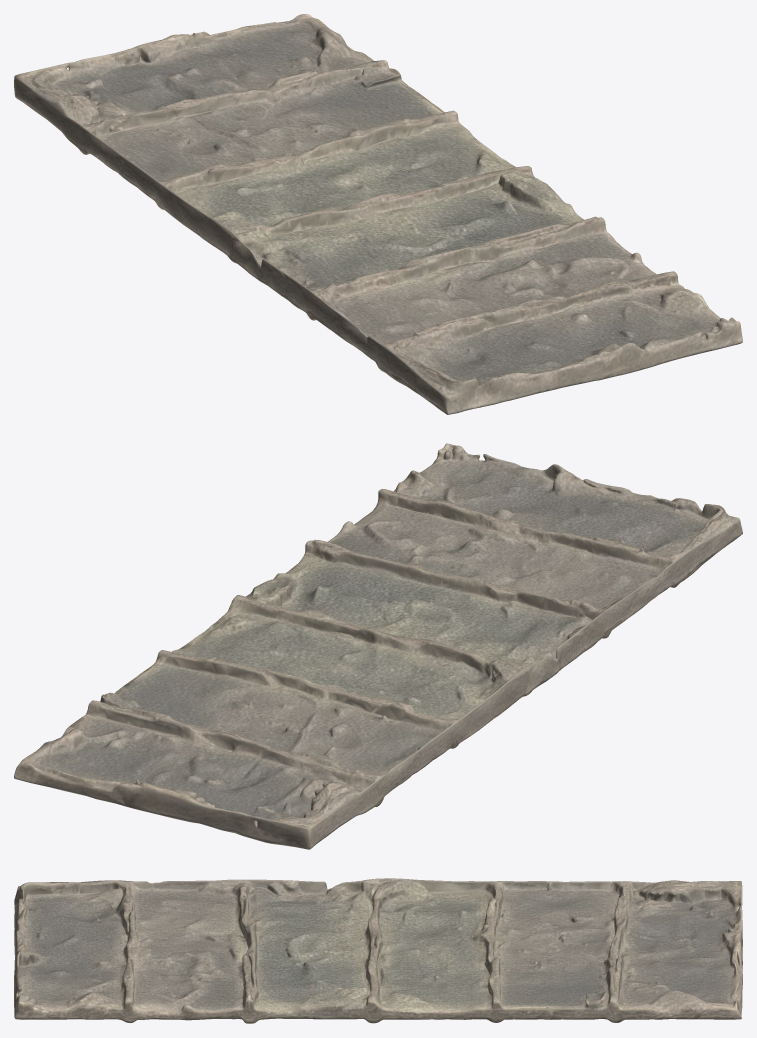
File: cobble.glb
3 renders of one model, top to bottom at view 1: azimuth 30°, elevation 25°; view 2: azimuth 150°, elevation 25°; view 3: azimuth 270°, elevation 25°, orthographic. The views are drawn at different scales.
Visible parts, largest first — view 1: tripo_node_1a96e64e-5b5e-49eb-942a-4aeb8464757c; view 2: tripo_node_1a96e64e-5b5e-49eb-942a-4aeb8464757c; view 3: tripo_node_1a96e64e-5b5e-49eb-942a-4aeb8464757c.
Boxes of the visible parts, x1=… form: tripo_node_1a96e64e-5b5e-49eb-942a-4aeb8464757c: x1=14, y1=14, x2=742, y2=414; tripo_node_1a96e64e-5b5e-49eb-942a-4aeb8464757c: x1=14, y1=443, x2=742, y2=849; tripo_node_1a96e64e-5b5e-49eb-942a-4aeb8464757c: x1=14, y1=878, x2=742, y2=1023.
Bounding box in the file's own units: 0.3945 × 0.0436 × 0.9999.
1 material, 1 textured.
